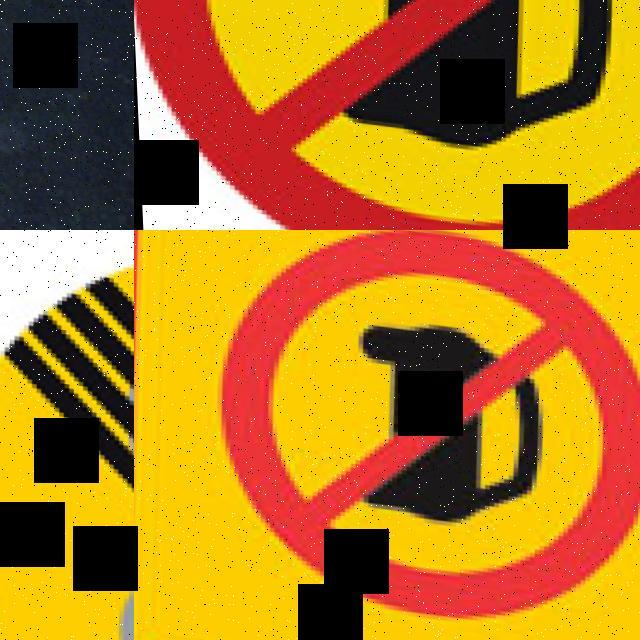124: (0, 230, 134, 640)
45: (134, 0, 640, 230)
No entry for motor vehicles: (134, 230, 640, 640)
